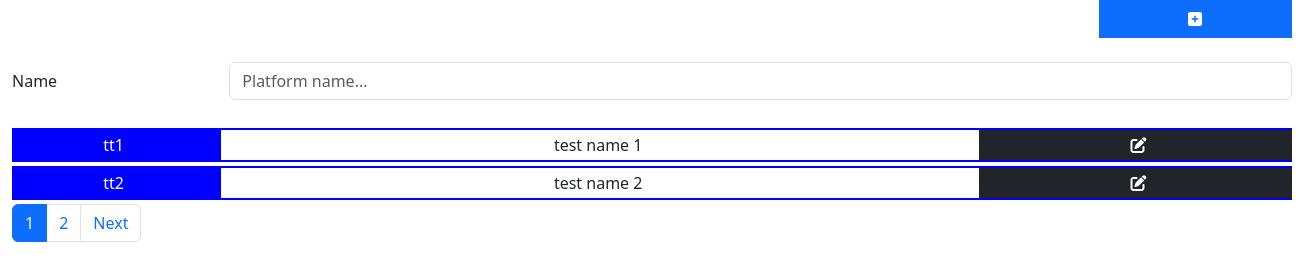
Test: Platform list displayer two pages
expect the text "test name 1" is shown: met, box [554, 133, 642, 157]
expect the text "tt1" is shown: met, box [103, 133, 124, 157]
Click the button "Next": [111, 223] box [80, 204, 141, 242]
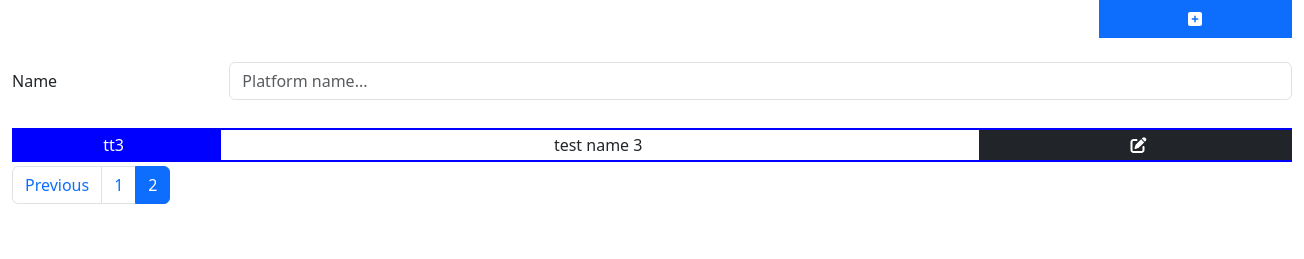
expect the text "test name 1" is gone: met
expect the text "tt1" is gone: met
expect the text "test name 2" is gone: met
Click the button "Previous": [57, 185] box [12, 166, 102, 204]
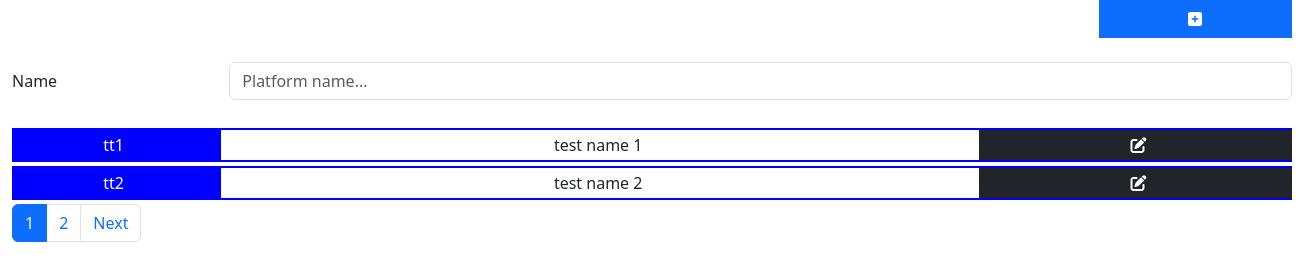
expect the text "test name 1" is shown: met, box [554, 133, 642, 157]
expect the text "tt1" is shown: met, box [103, 133, 124, 157]
expect the text "test name 2" is shown: met, box [554, 171, 642, 195]
